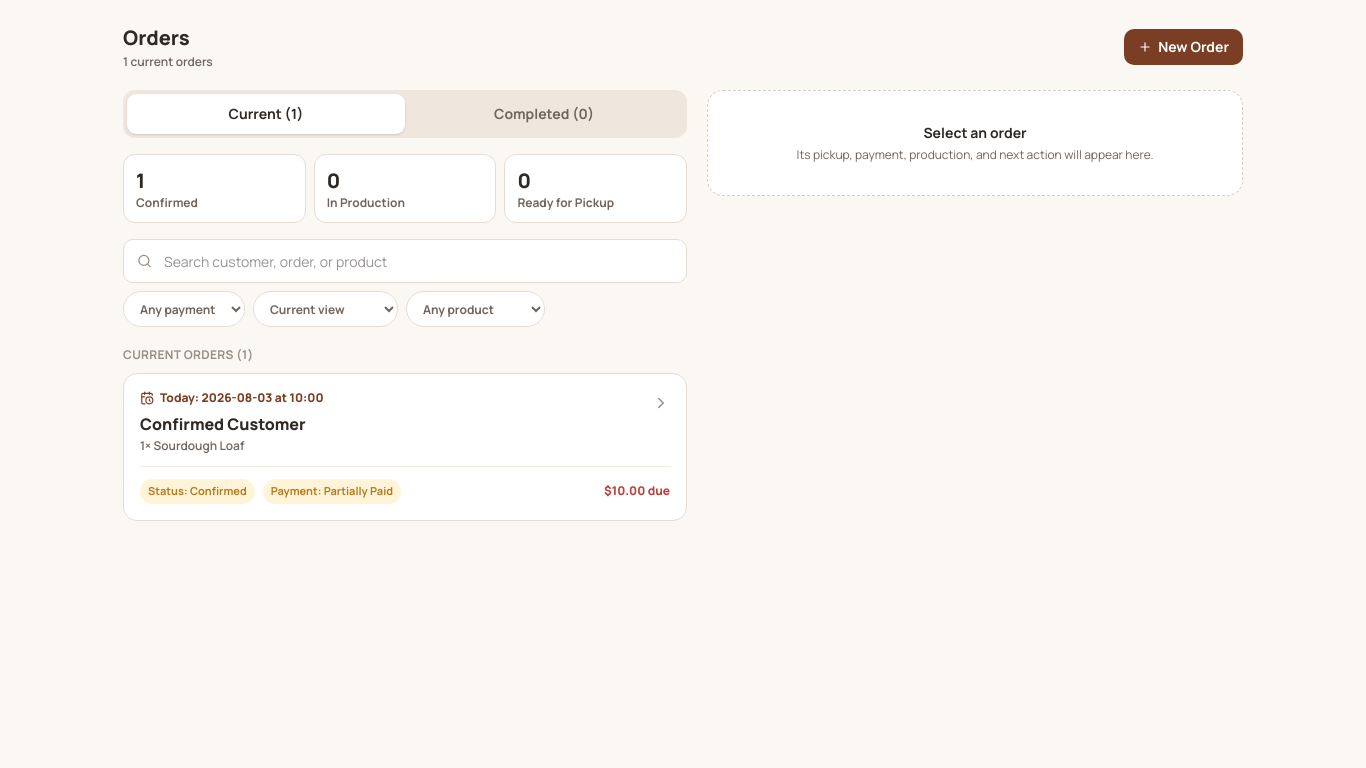
Test case: OrdersScreen workflow queue › keeps the balance and supports retry when payment persistence fails
The width and height of the screenshot is (1366, 768).
Click the button with aria-label "Open order order-confirmed for Confirmed Customer" at coordinates (242, 398), box [124,374,686,520]
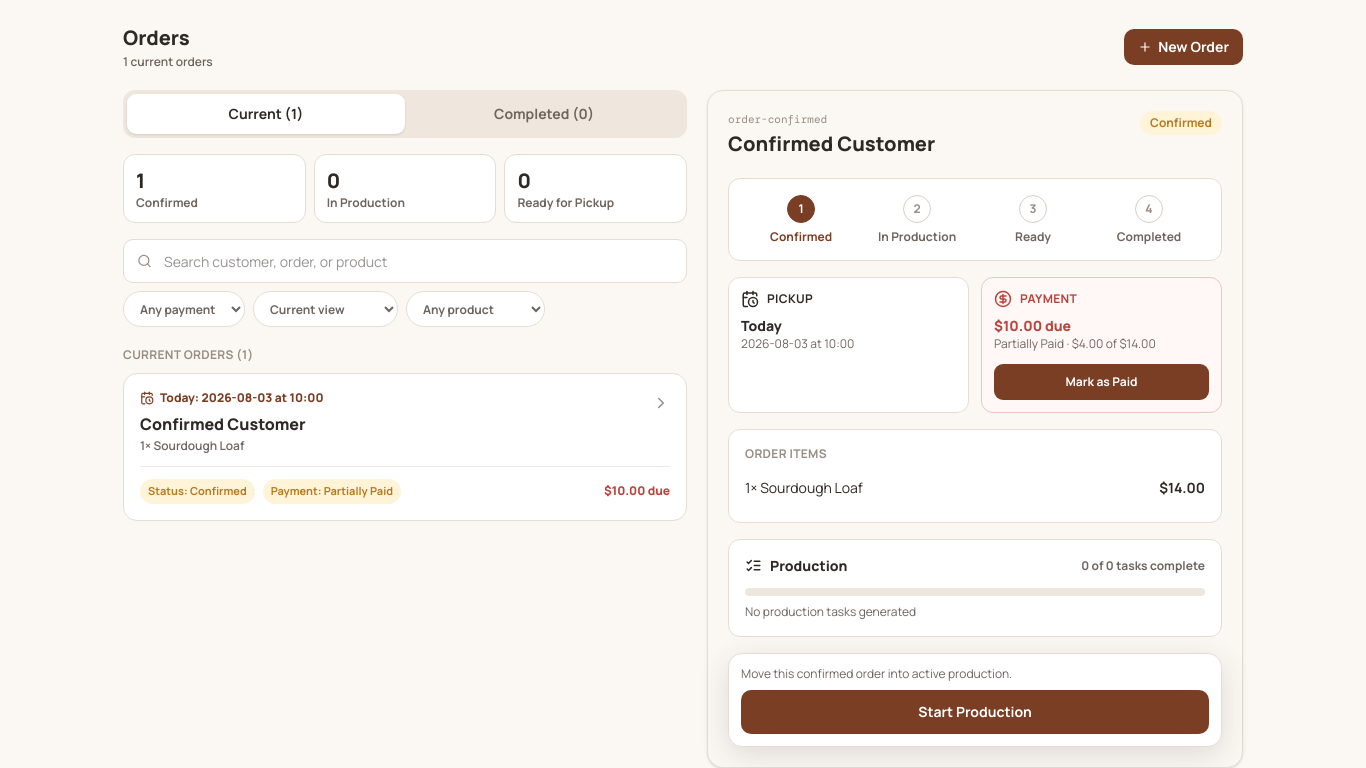
Click the button "Mark as Paid" at coordinates (1102, 382), box [994,364,1209,400]
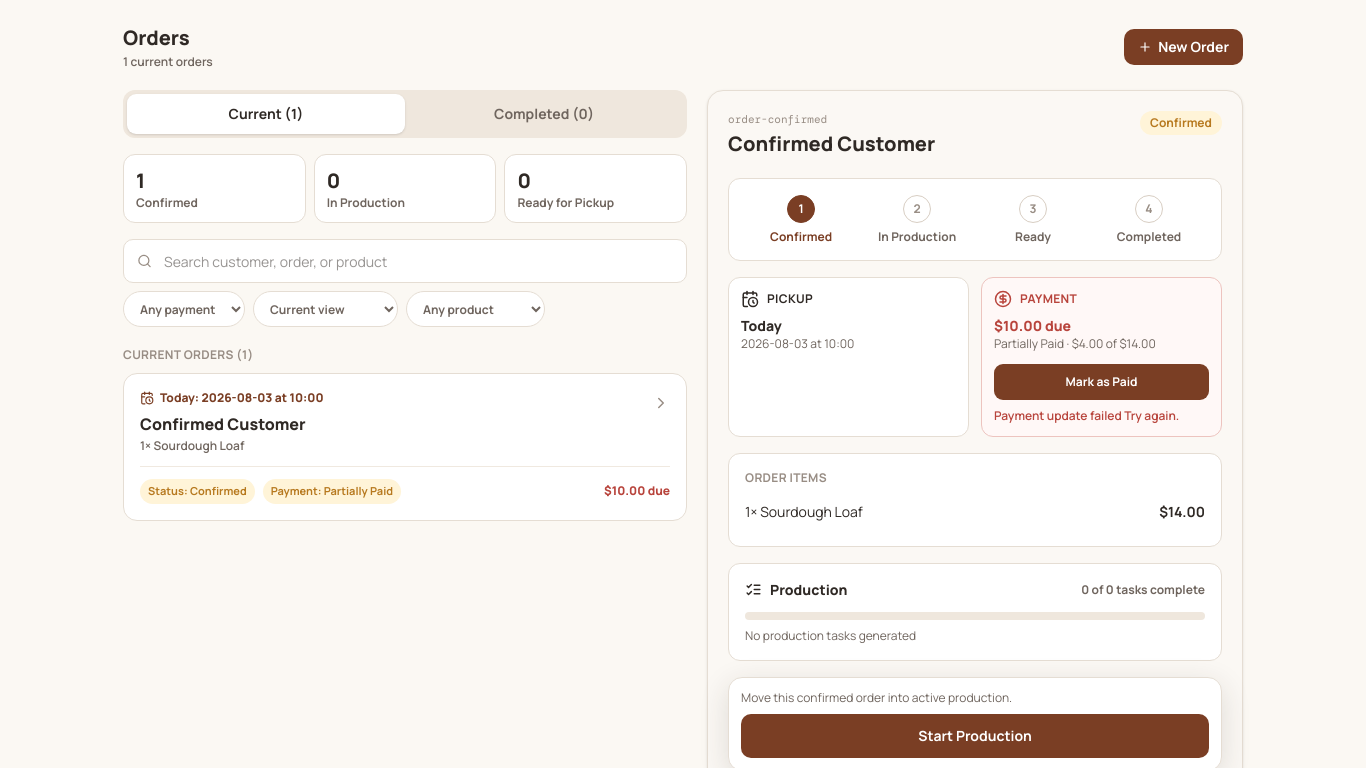
Expected: the element named "Payment summary" shows "$10.00 due", [994,316,1071,334]
Expected: the message shows "Payment update failed", [994,406,1122,424]
